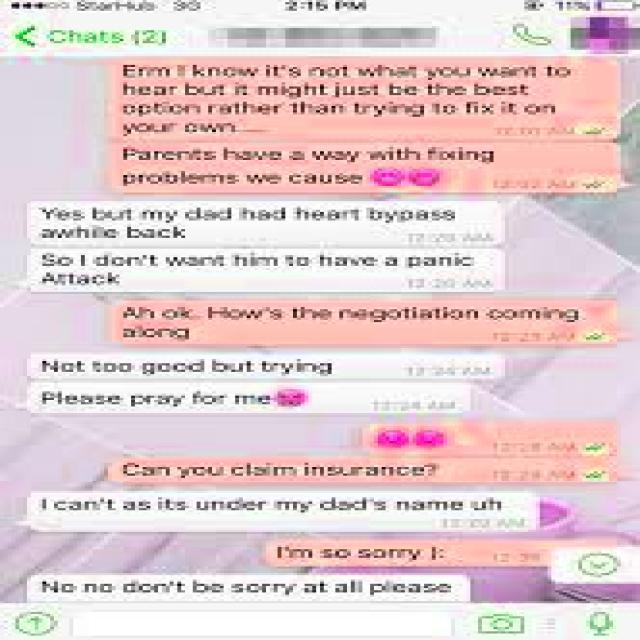scam: (37, 243, 479, 290), (34, 492, 537, 528), (31, 202, 498, 239), (34, 348, 402, 380), (27, 574, 463, 598), (27, 382, 340, 411)
